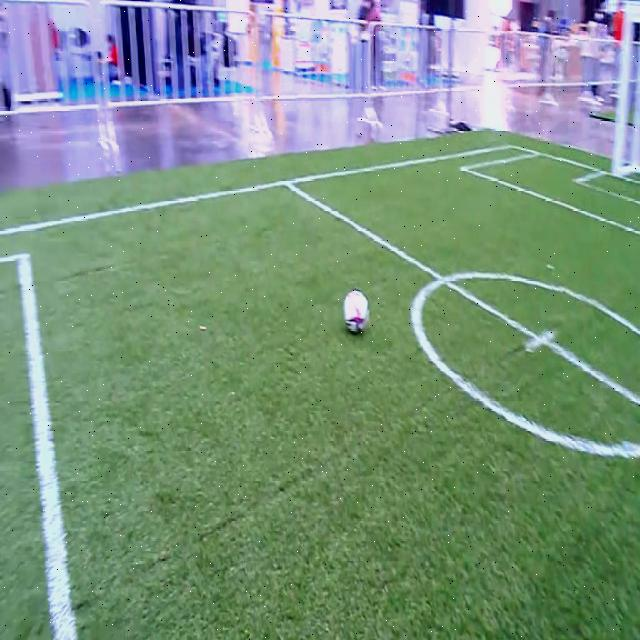ball: (343, 289, 368, 334)
